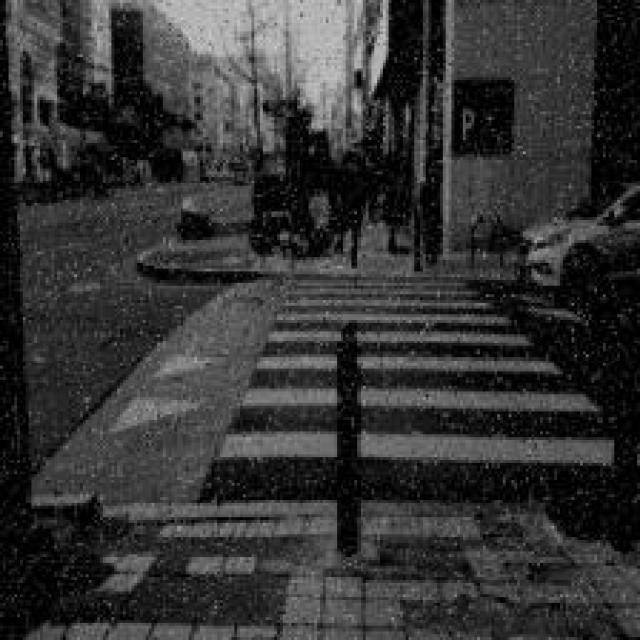crosswalk: (212, 273, 624, 468)
